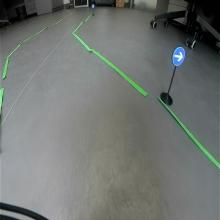right: (172, 47, 185, 66)
